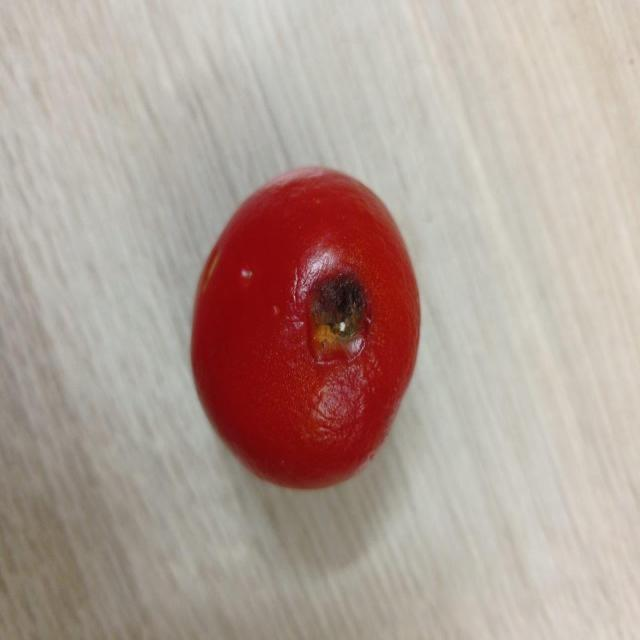overripe: (187, 167, 425, 492)
